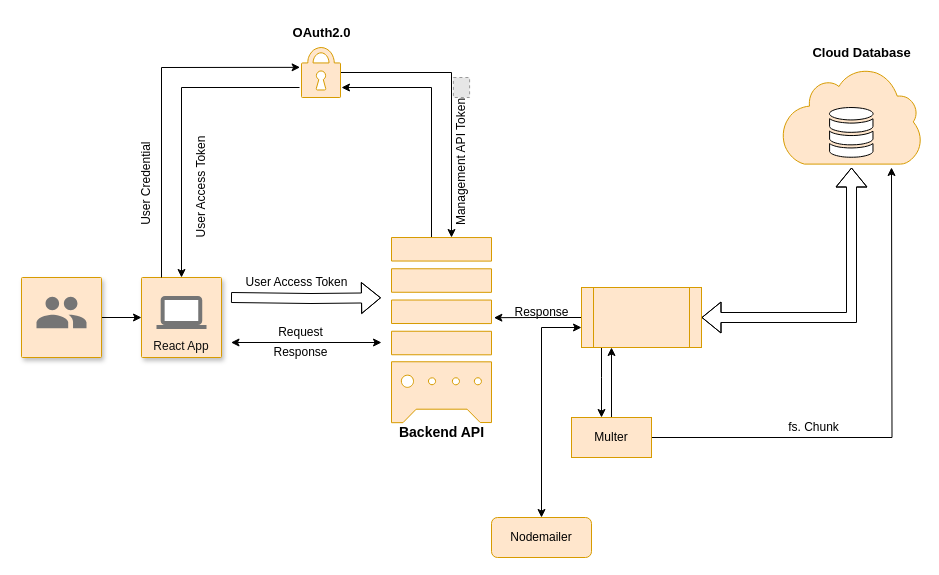
The diagram is 939 pixels wide and 575 high, and some of its shapes have lost their labels. Grey dashed boxes stand in for pictures. The shapes that lost their labels are listed below. From the top down, each one's centre as x and y in pixels, then its label:
At (62,318): "Users".
At (641,317): "Controller".
